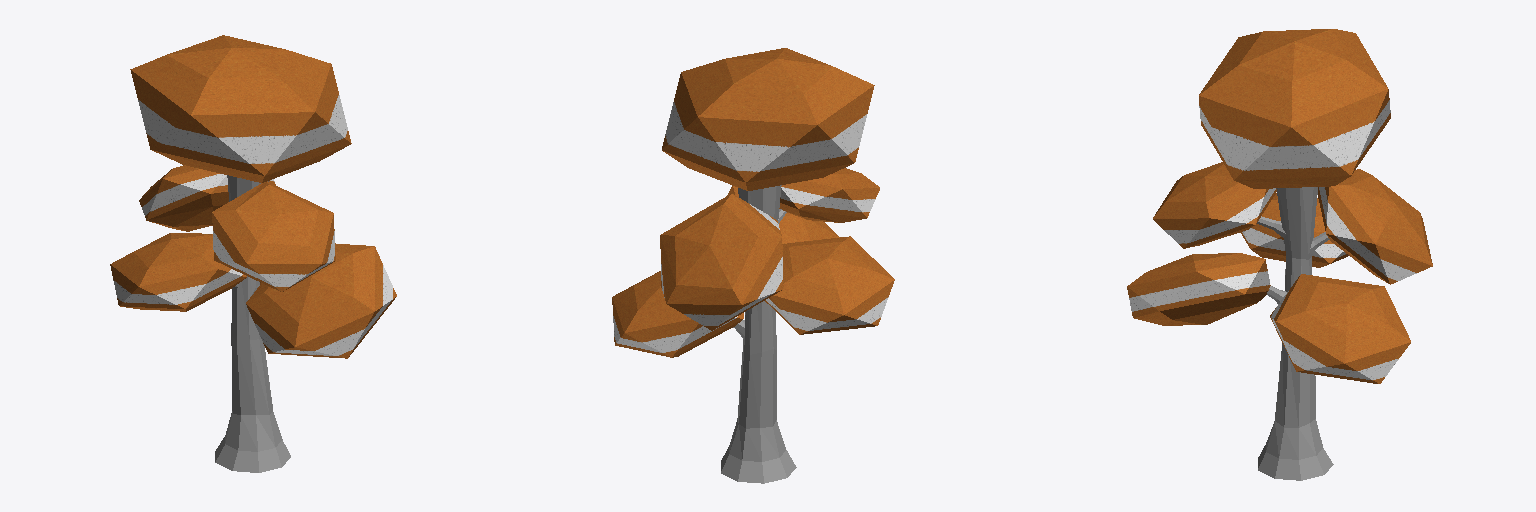
3 views of the same model, side by side, from view 1: azimuth 30°, elevation 25°; view 2: azimuth 150°, elevation 25°; view 3: azimuth 270°, elevation 25° (orthographic).
Parts seen in each view (by area): view 1: Icosphere.002, wood.003_Cylinder.002; view 2: Icosphere.002, wood.003_Cylinder.002; view 3: Icosphere.002, wood.003_Cylinder.002.
Boxes of the visible parts, box(x1,y1,x2,y2) form: Icosphere.002: box(110, 35, 396, 358); wood.003_Cylinder.002: box(215, 175, 290, 472); Icosphere.002: box(612, 48, 894, 357); wood.003_Cylinder.002: box(721, 185, 796, 483); Icosphere.002: box(1127, 29, 1432, 383); wood.003_Cylinder.002: box(1257, 187, 1333, 480).
Bounding box in the file's own units: 1.9 × 3.03 × 2.03.
Materials: 2 (1 with a texture image).